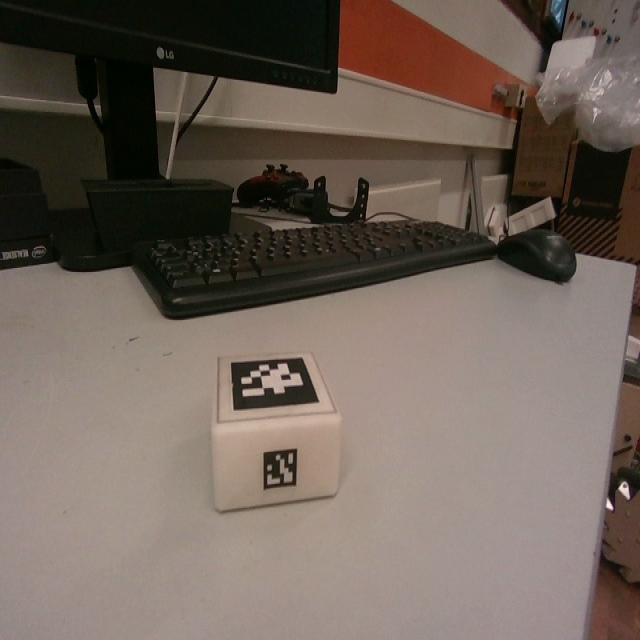Cube: (209, 349, 342, 512)
